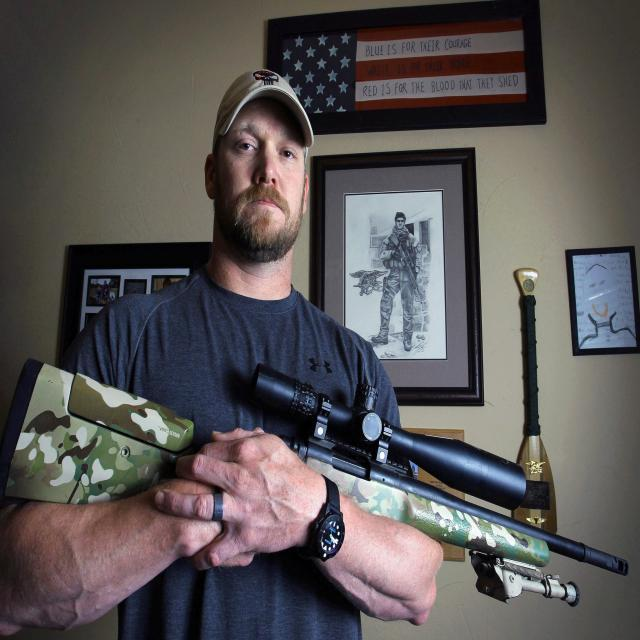scope: (221, 357, 531, 504)
sniper rifle: (13, 357, 623, 619)
